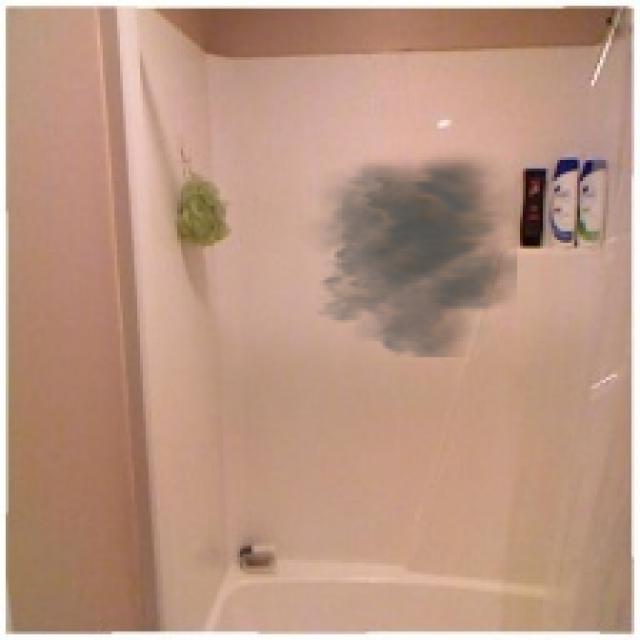Smoke: (294, 146, 517, 357)
